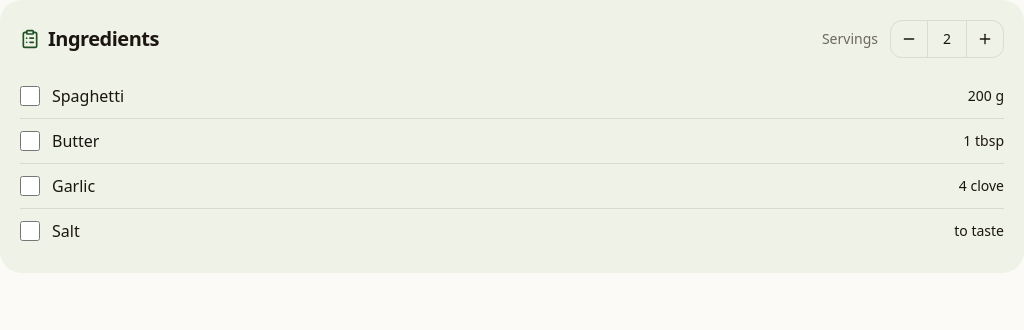
Test: clears the scaled note when stepping back to the original count
Click the button named "Increase servings". click: (985, 39)
box: [967,21,1003,57]
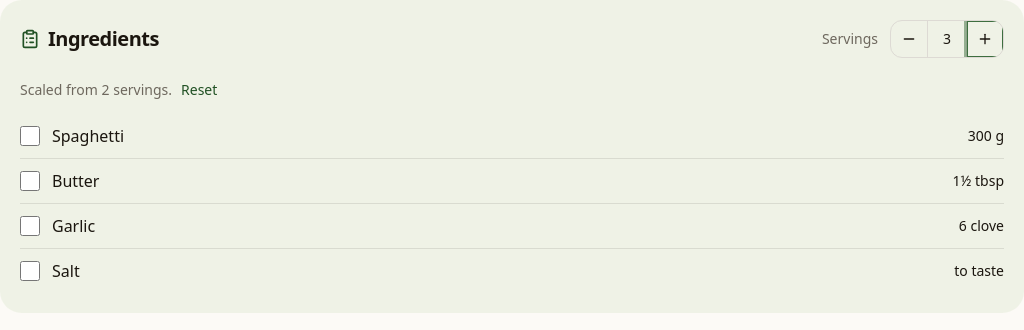
Click the button named "Decrease servings". click: (909, 39)
box: [891,21,927,57]
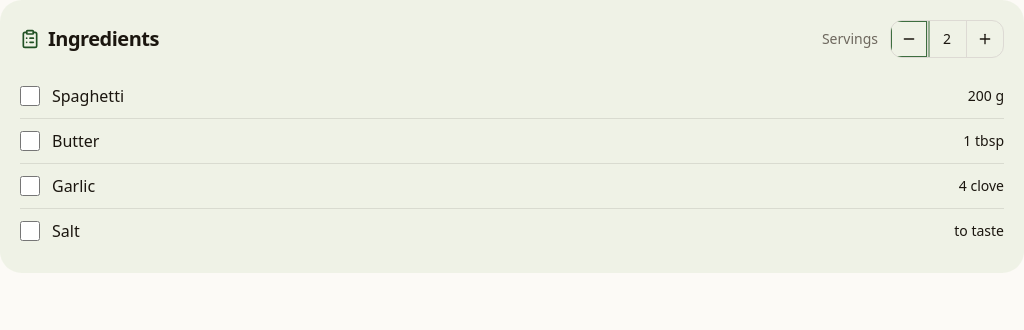
Expected: the text "Scaled from" is gone
